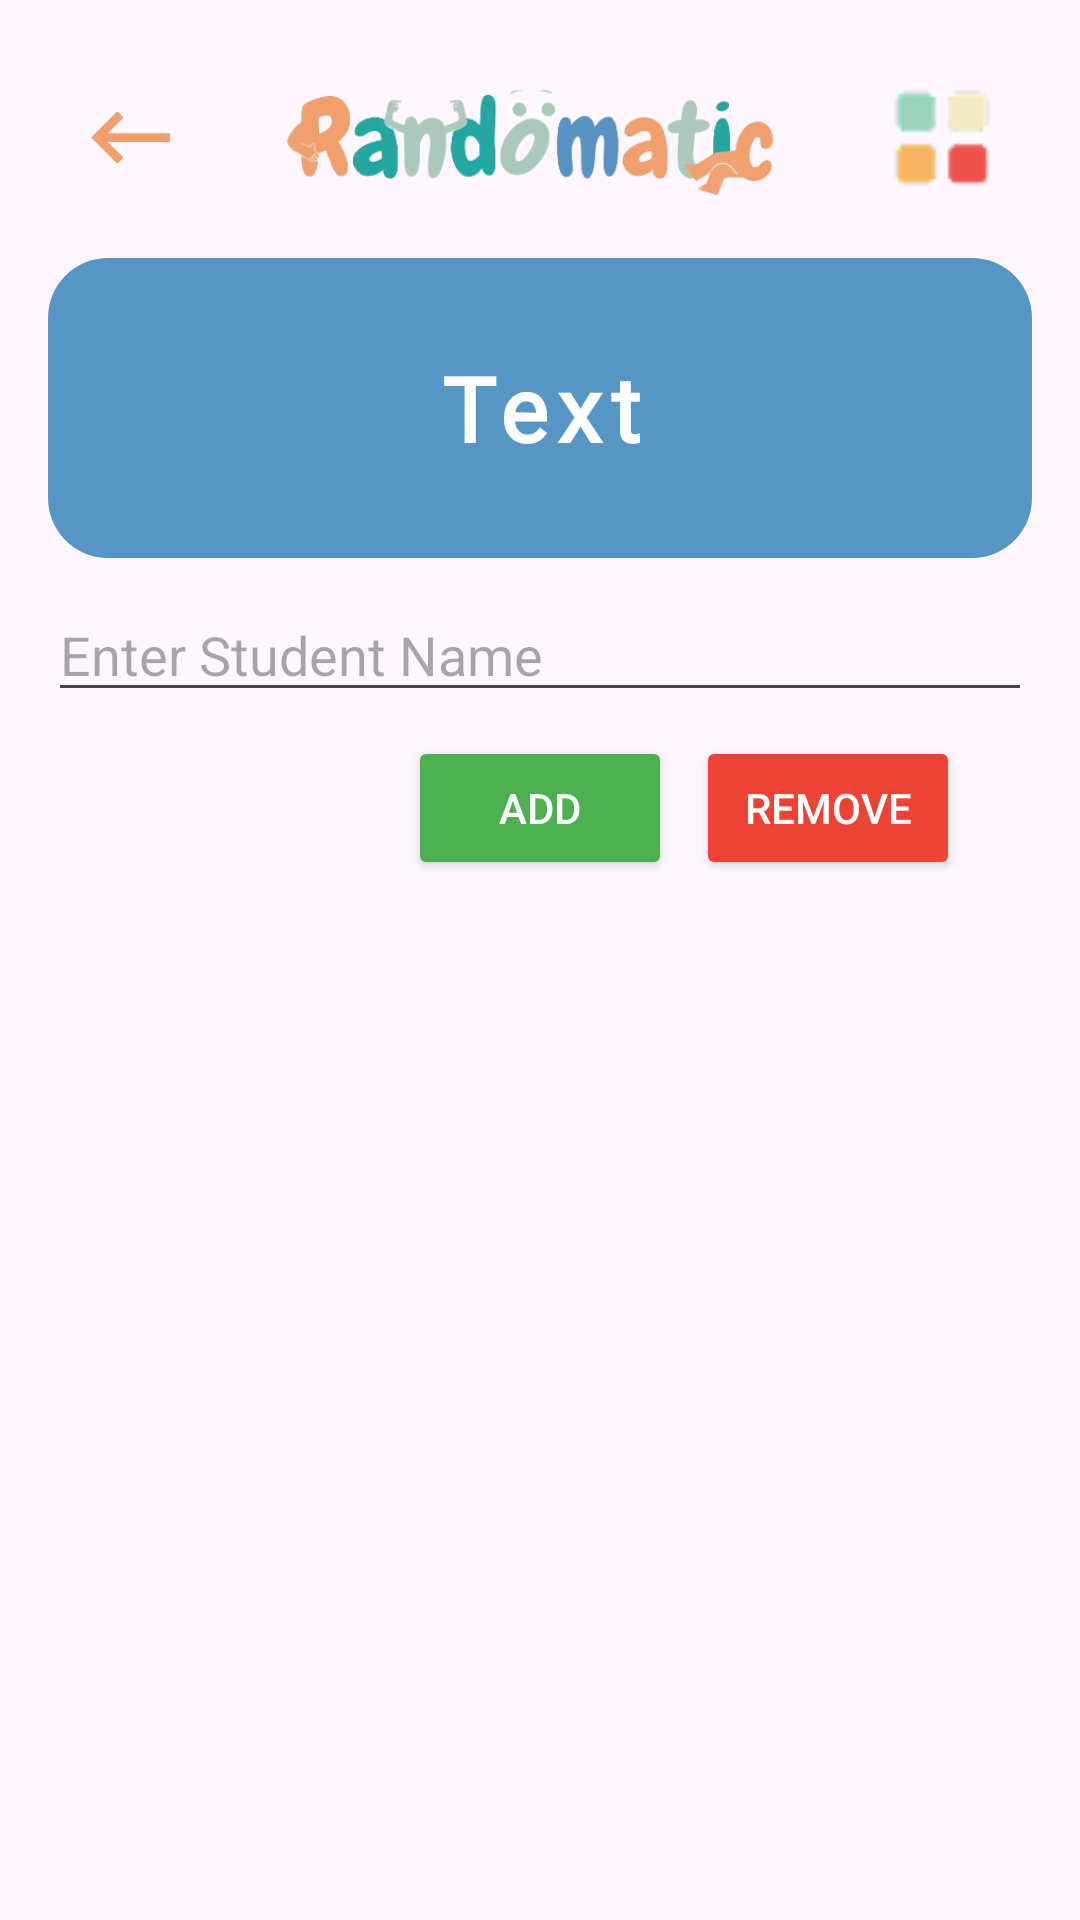

Icons on this 1080*1920 Android screen, each with the point to tap as (x,y):
keyboard backspace: (130,137)
